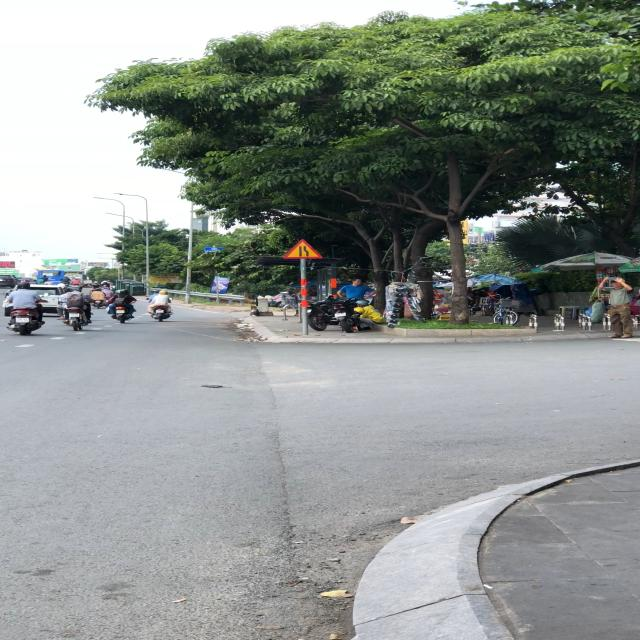Bien bao duong bi thu hep: (282, 237, 326, 260)
